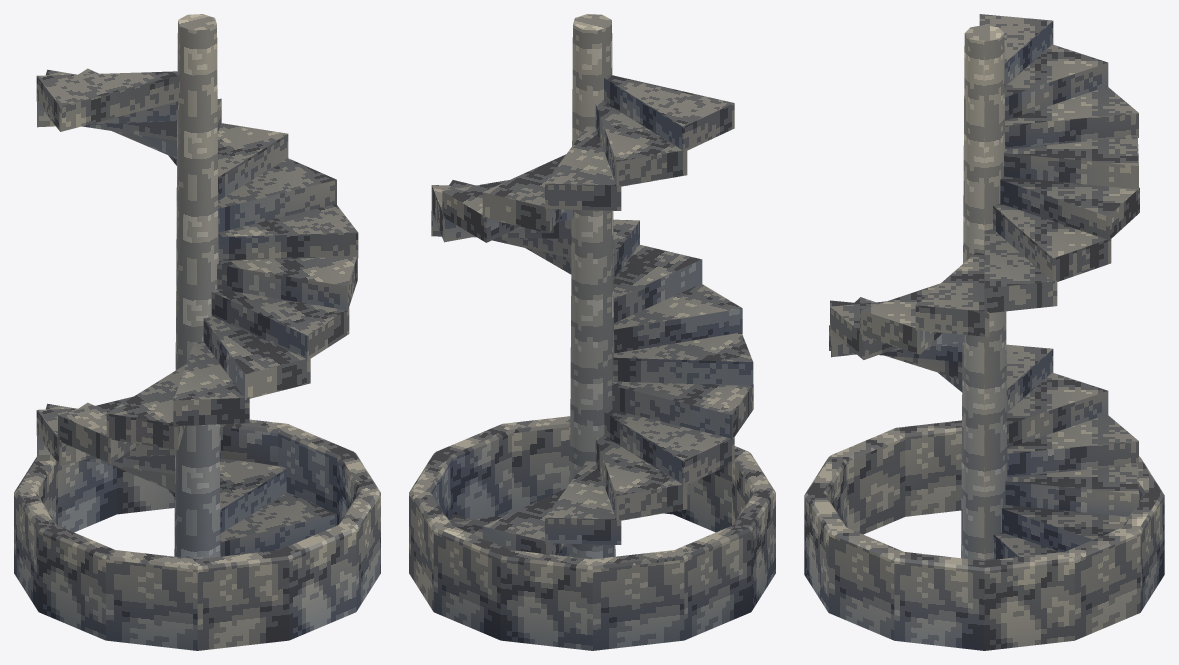
The model's file is cst.spiral_stair__tall.glb.
The picture shows the model from 3 angles, left to right: view 1: azimuth 30°, elevation 25°; view 2: azimuth 150°, elevation 25°; view 3: azimuth 270°, elevation 25°; orthographic projection.
Visible parts, largest first — view 1: kit_steps, kit_drum, kit_newel; view 2: kit_steps, kit_drum, kit_newel; view 3: kit_steps, kit_drum, kit_newel.
Boxes of the visible parts, x1,y1,x2,y2 form: kit_steps: (36, 68, 358, 556); kit_drum: (14, 419, 380, 650); kit_newel: (174, 14, 220, 559); kit_steps: (431, 75, 753, 556); kit_drum: (409, 416, 775, 650); kit_newel: (569, 14, 615, 559); kit_steps: (829, 14, 1139, 560); kit_drum: (804, 420, 1164, 650); kit_newel: (961, 25, 1007, 560).
Size of the model in its own units: 3.98 by 6.6 by 3.98.
3 materials, 3 textured.
